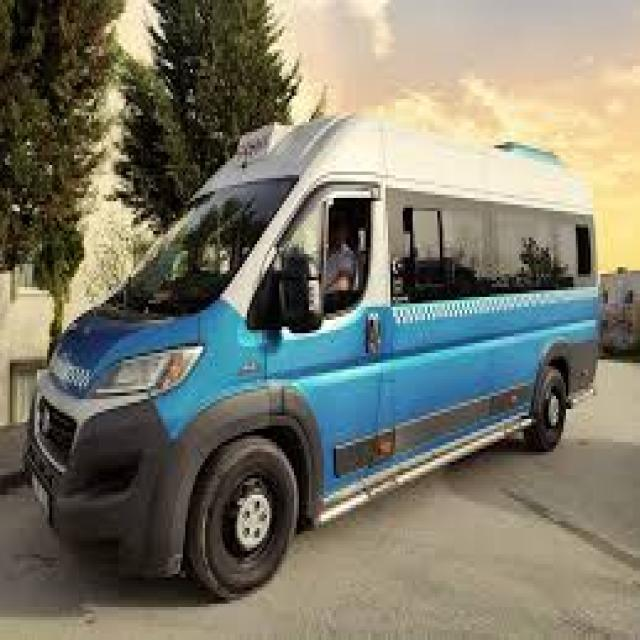bus: (28, 119, 597, 600)
